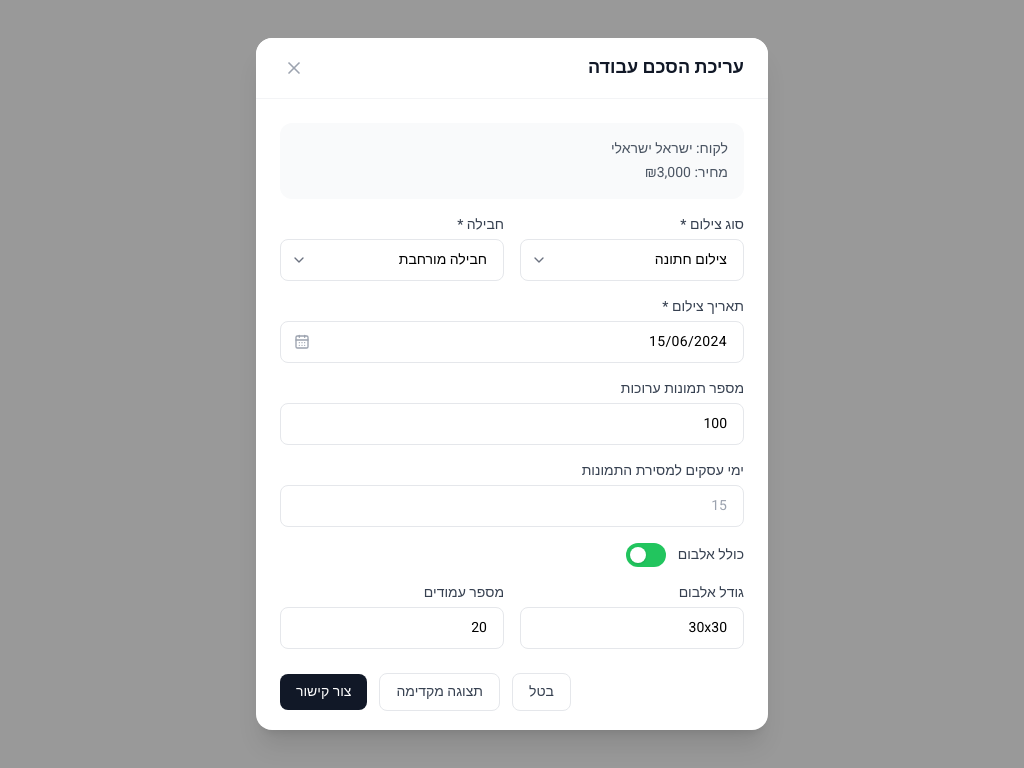
it: AgreementEditorModal › album toggle hides album fields when pkg has album and toggled off
Check: the field with placeholder "30x30" is shown, box left=520, top=607, right=744, bottom=649
Note: Toggle off
Step 1. Click the switch named "החלף כולל אלבום" → click(646, 555), box left=626, top=543, right=666, bottom=567
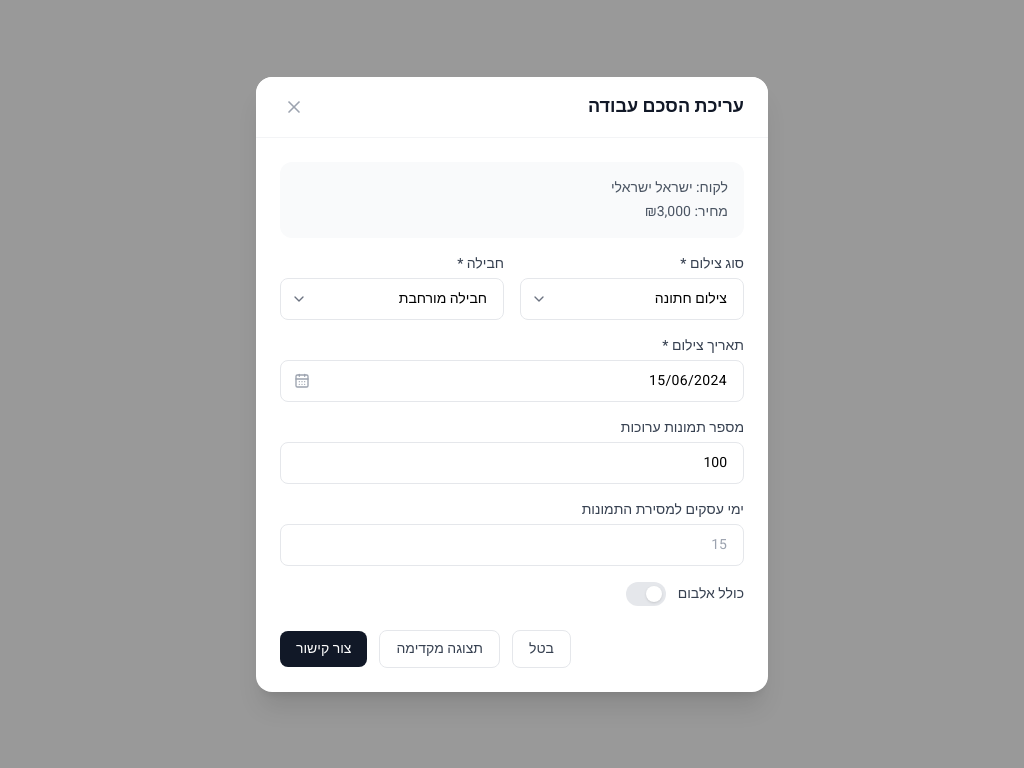
Check: the field with placeholder "30x30" is gone
